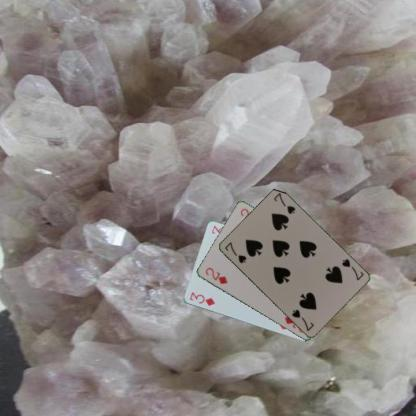2d: (202, 266, 228, 286)
3d: (187, 289, 216, 308)
7s: (338, 256, 366, 282), (222, 239, 247, 265)
